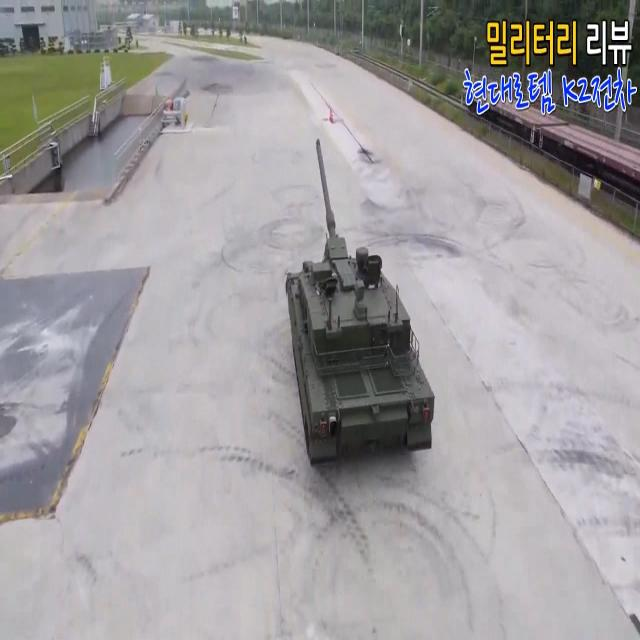korea tank: (283, 135, 436, 468)
